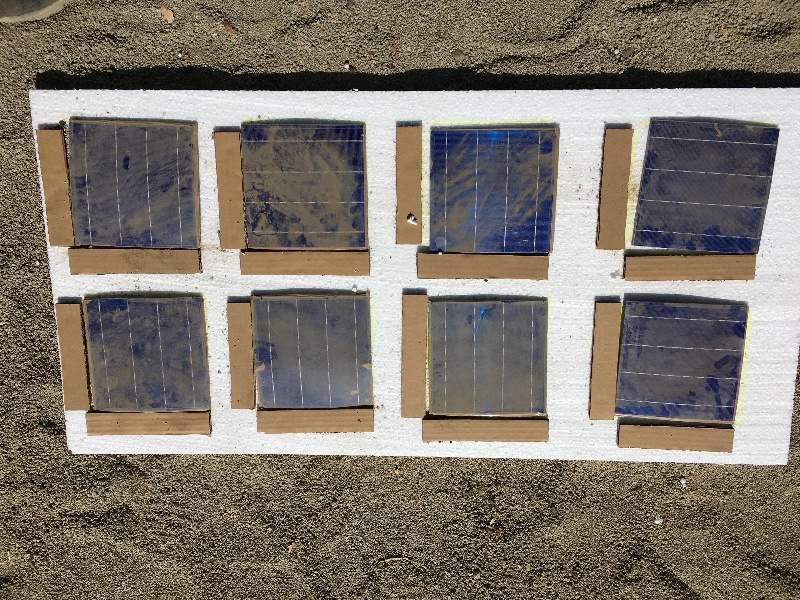clean: (428, 123, 560, 256)
dirty: (630, 118, 777, 252), (67, 118, 207, 251), (611, 299, 749, 422), (241, 125, 370, 251), (77, 292, 209, 413), (247, 297, 376, 410), (423, 304, 549, 417)
